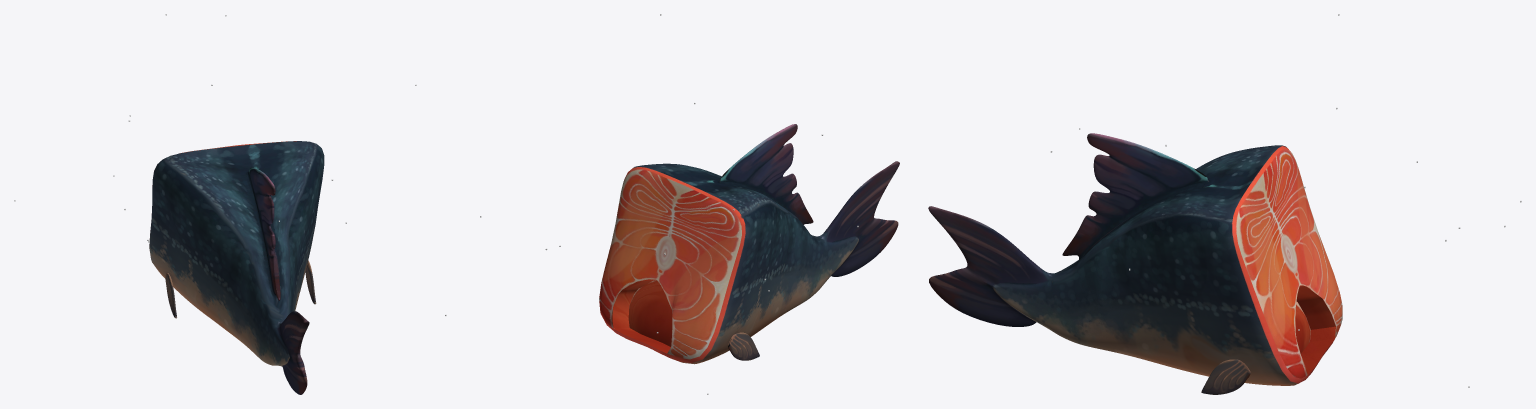
The model's file is salmon-collider-mesh-high.fbx.
3 views of the same model, side by side, from view 1: azimuth 30°, elevation 25°; view 2: azimuth 150°, elevation 25°; view 3: azimuth 270°, elevation 25° (orthographic). The views are drawn at different scales.
Parts seen in each view (by area): view 1: Collider.Mesh; view 2: Collider.Mesh; view 3: Collider.Mesh.
Boxes of the visible parts, <box> form: Collider.Mesh: <box>14,14,416,394</box>; Collider.Mesh: <box>445,14,899,394</box>; Collider.Mesh: <box>928,14,1521,394</box>.
Bounding box in the file's own units: 147 × 136 × 223.
